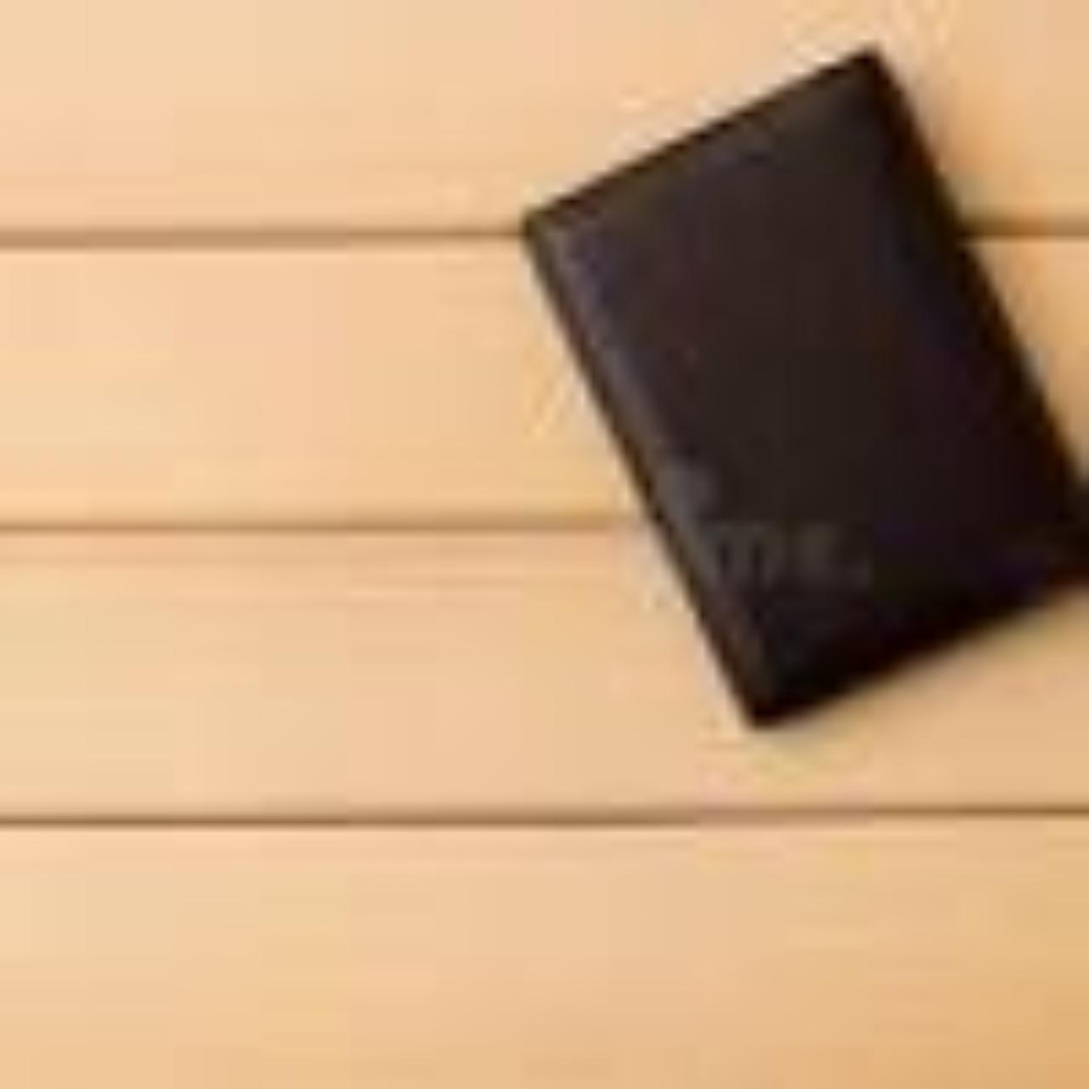wallet: (534, 22, 1089, 871)
